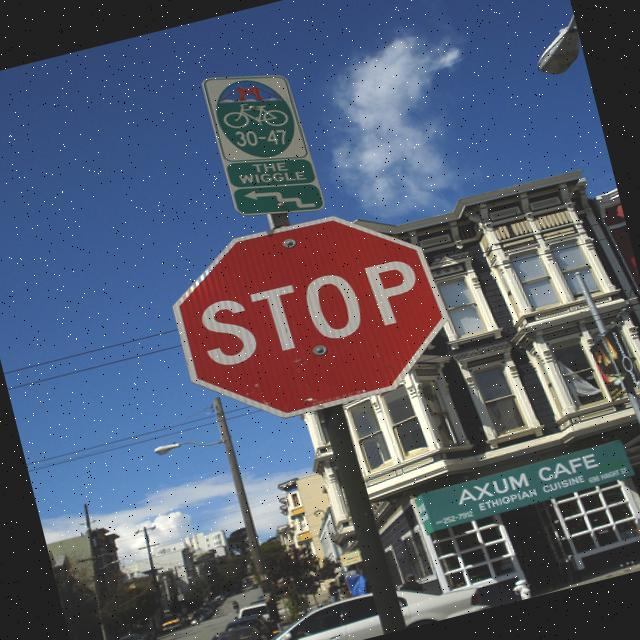fire_hydrant: (512, 577, 530, 601)
